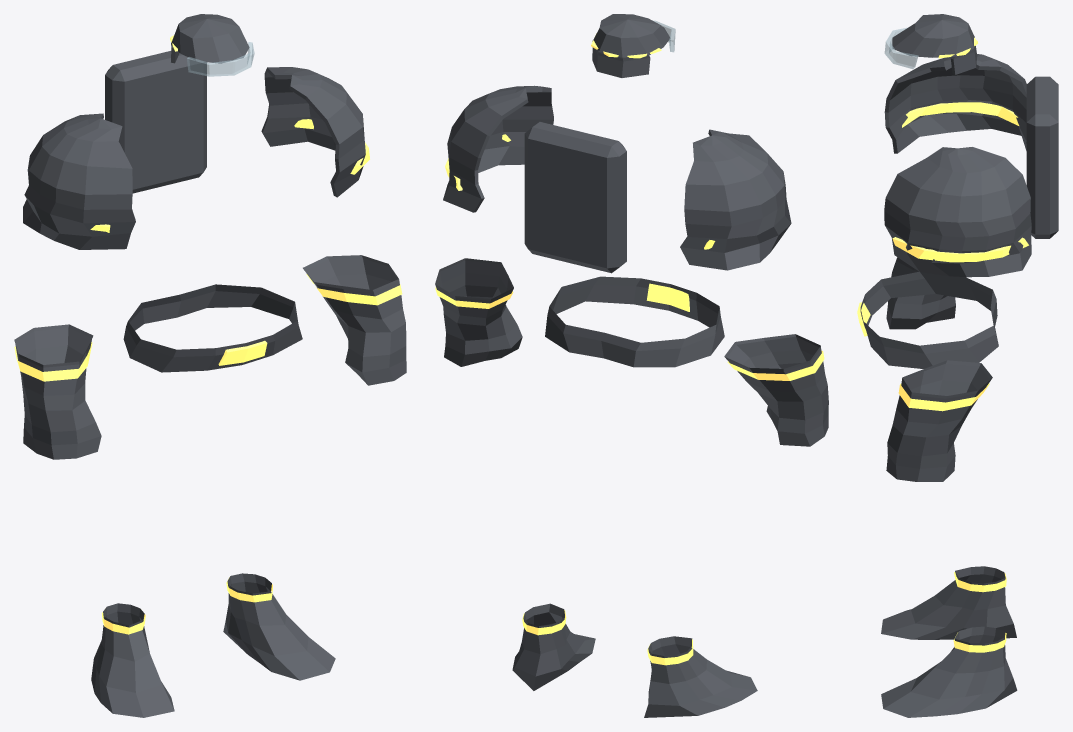
The model's file is gear.glb.
3 views of the same model, side by side, from view 1: azimuth 30°, elevation 25°; view 2: azimuth 150°, elevation 25°; view 3: azimuth 270°, elevation 25° (orthographic).
Parts seen in each view (by area): view 1: ShoulderPad_R, Backpack, Bracer_R, Bracer_L, ShoulderPad_L, Belt, Boot_L, Boot_R, Helmet, Helmet_Visor, Bracer_Light_L, Bracer_Light_R (+1 smaller); view 2: Backpack, ShoulderPad_R, Belt, ShoulderPad_L, Bracer_R, Bracer_L, Boot_R, Boot_L, Helmet, Helmet_CheekGuard, Belt_Buckle, Bracer_Light_R; view 3: ShoulderPad_L, ShoulderPad_R, Bracer_L, Boot_L, Belt, Boot_R, Backpack, Helmet, Bracer_R, ShoulderPad_Light_R, ShoulderPad_Light_L, Bracer_Light_L (+4 smaller).
Part boxes in pixels (left/top/right/bottom): ShoulderPad_R: left=23, top=113, right=135, bottom=249; Backpack: left=105, top=51, right=206, bottom=193; Bracer_R: left=14, top=324, right=101, bottom=459; Bracer_L: left=303, top=255, right=406, bottom=385; ShoulderPad_L: left=261, top=67, right=365, bottom=197; Belt: left=123, top=284, right=302, bottom=372; Boot_L: left=223, top=573, right=335, bottom=680; Boot_R: left=91, top=603, right=174, bottom=717; Helmet: left=171, top=14, right=249, bottom=63; Helmet_Visor: left=187, top=42, right=254, bottom=76; Bracer_Light_L: left=306, top=274, right=402, bottom=305; Bracer_Light_R: left=14, top=342, right=92, bottom=381; Backpack: left=524, top=122, right=626, bottom=273; ShoulderPad_R: left=680, top=129, right=791, bottom=270; Belt: left=545, top=276, right=724, bottom=367; ShoulderPad_L: left=443, top=85, right=553, bottom=212; Bracer_R: left=724, top=334, right=828, bottom=446; Bracer_L: left=435, top=258, right=522, bottom=366; Boot_R: left=644, top=636, right=757, bottom=717; Boot_L: left=512, top=603, right=595, bottom=690; Helmet: left=593, top=14, right=670, bottom=58; Helmet_CheekGuard: left=592, top=40, right=650, bottom=77; Belt_Buckle: left=646, top=283, right=689, bottom=311; Bracer_Light_R: left=727, top=350, right=824, bottom=380; ShoulderPad_L: left=884, top=147, right=1031, bottom=277; ShoulderPad_R: left=884, top=54, right=1026, bottom=153; Bracer_L: left=886, top=360, right=992, bottom=481; Boot_L: left=881, top=626, right=1017, bottom=717; Belt: left=860, top=271, right=998, bottom=368; Boot_R: left=881, top=566, right=1016, bottom=639; Backpack: left=1026, top=76, right=1058, bottom=238; Helmet: left=892, top=14, right=974, bottom=57; Bracer_R: left=886, top=257, right=955, bottom=329; ShoulderPad_Light_R: left=902, top=102, right=1019, bottom=127; ShoulderPad_Light_L: left=892, top=237, right=1028, bottom=262; Bracer_Light_L: left=898, top=383, right=989, bottom=411.
Bounding box in the file's own units: 1.19 × 2 × 0.5675.
